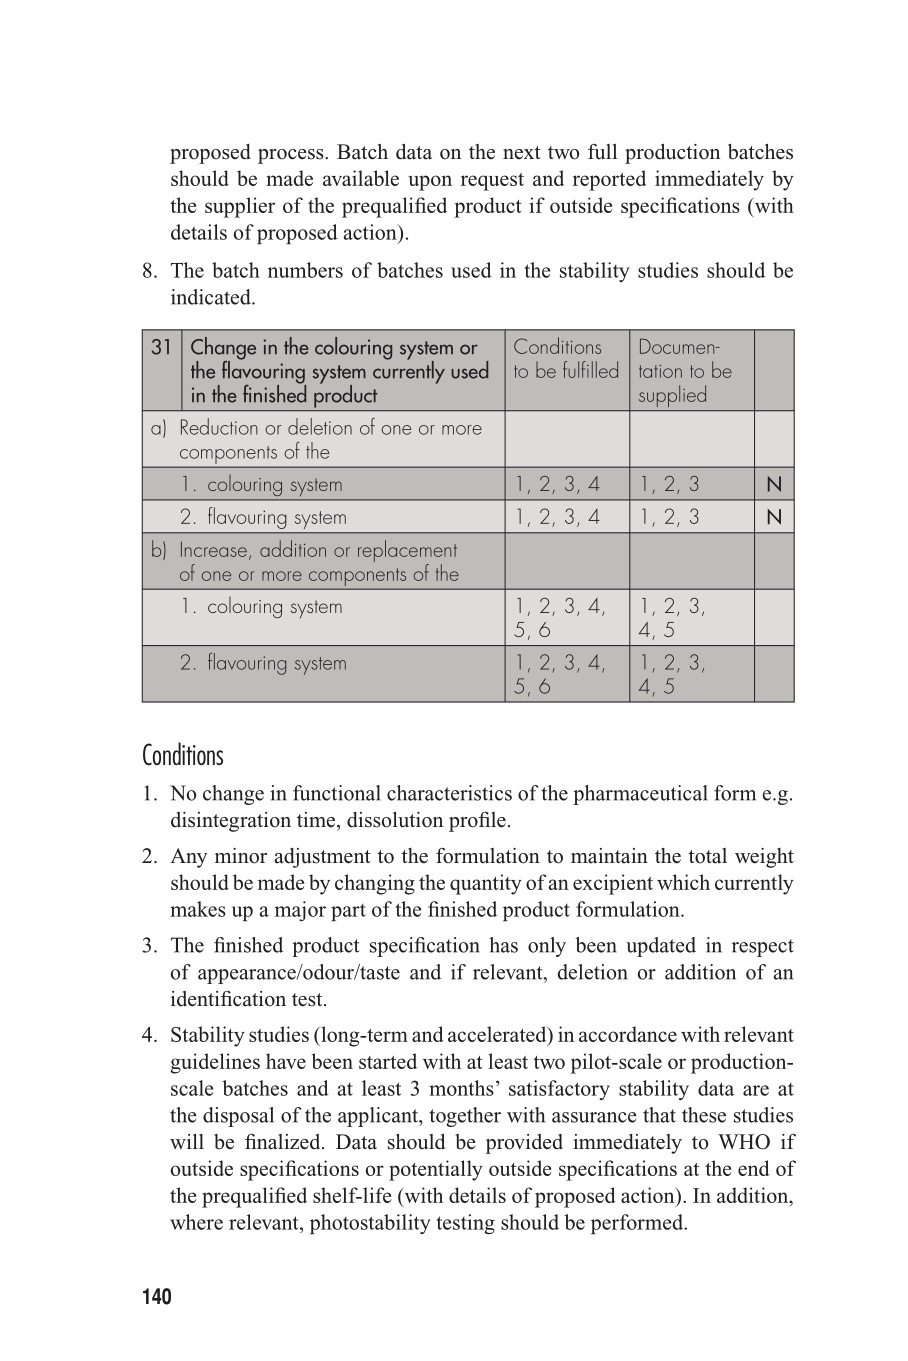merged_cells: (140, 328, 794, 703)
